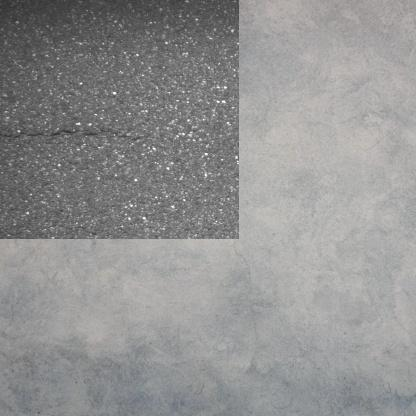Cracks: (0, 118, 133, 133)
